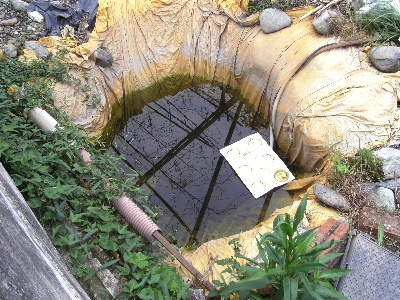plastic_bag: (21, 1, 400, 297)
